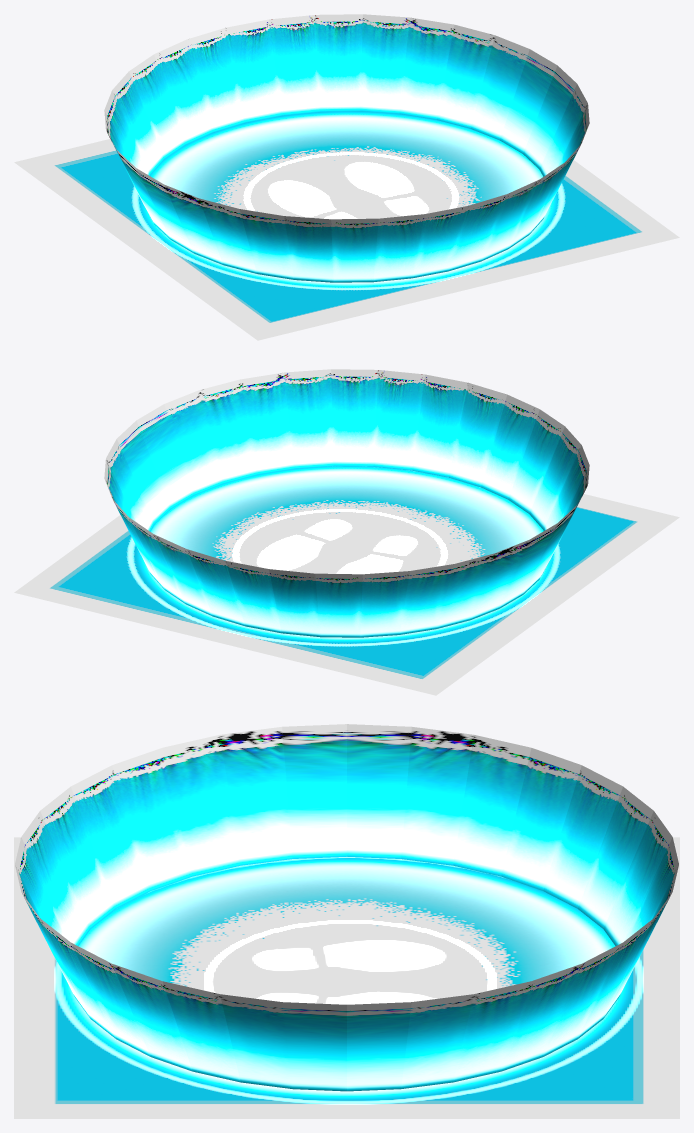
The model's file is Move-Pad.fbx.
3 views of the same model, one above another, from view 1: azimuth 30°, elevation 25°; view 2: azimuth 150°, elevation 25°; view 3: azimuth 270°, elevation 25° (orthographic). The views are drawn at different scales.
Parts seen in each view (by area): view 1: Plane; view 2: Plane; view 3: Plane.
Boxes of the visible parts, box(x1,y1,x2,y2) form: Plane: box(14, 14, 679, 340); Plane: box(14, 369, 679, 695); Plane: box(14, 724, 679, 1118).
Size of the model in its own units: 217 by 40.89 by 217.
Materials: 1 (1 with a texture image).
